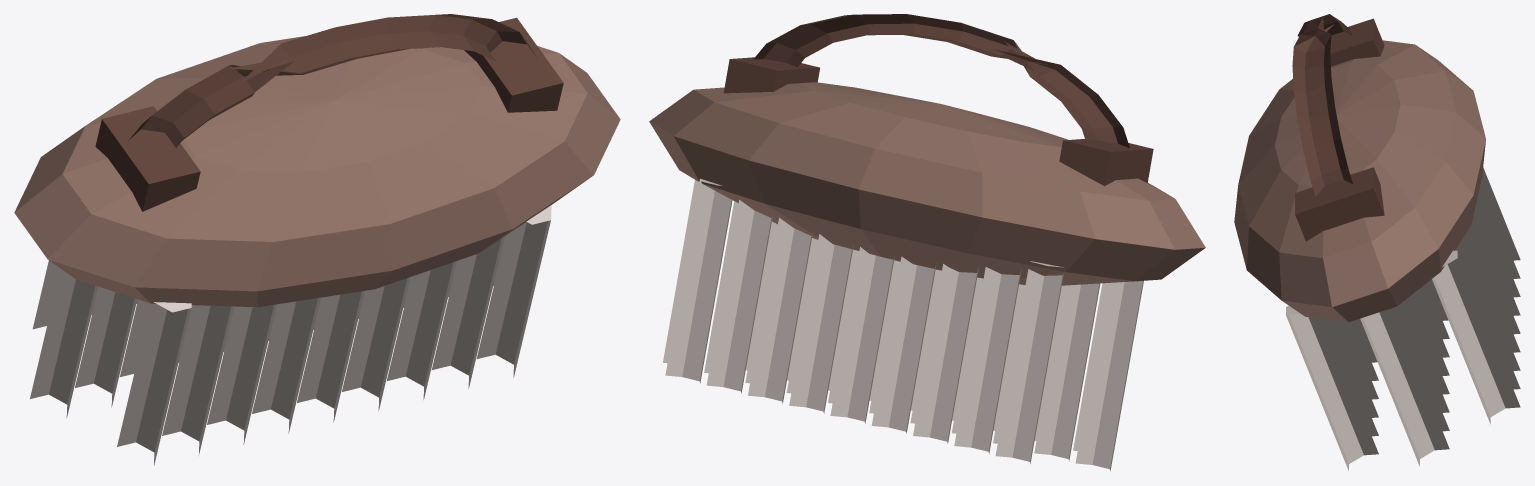
File: borste.glb
3 views of the same model, side by side, from view 1: azimuth 30°, elevation 25°; view 2: azimuth 150°, elevation 25°; view 3: azimuth 270°, elevation 25° (orthographic). The views are drawn at different scales.
Visible parts, largest first — view 1: borste; view 2: borste; view 3: borste.
Boxes of the visible parts, box(x1,y1,x2,y2) form: borste: box(14, 14, 620, 465); borste: box(649, 14, 1205, 471); borste: box(1234, 14, 1520, 470).
Size of the model in its own units: 0.3315 by 0.2276 by 0.1709.
